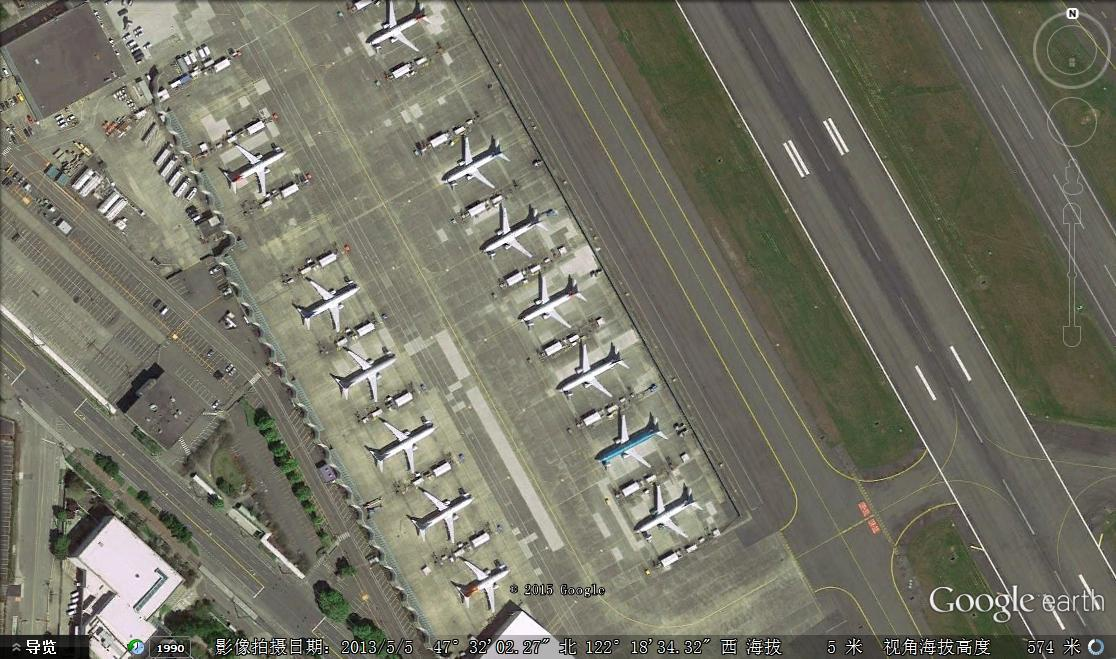aircraft: (632, 479, 710, 543), (474, 200, 554, 262), (361, 417, 440, 479), (593, 409, 672, 471), (516, 269, 591, 334), (439, 131, 516, 192), (554, 338, 633, 397), (328, 349, 402, 409), (405, 486, 476, 548), (291, 276, 362, 336), (218, 140, 287, 200), (447, 555, 510, 617)
